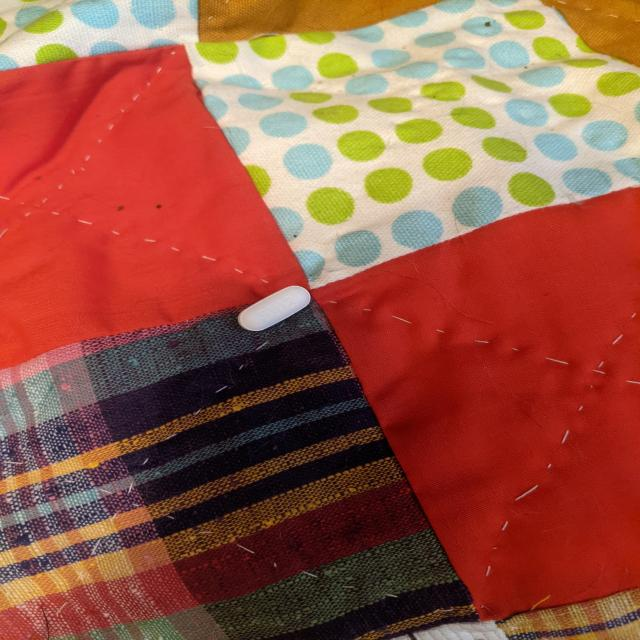non-organic waste: (237, 285, 312, 332)
